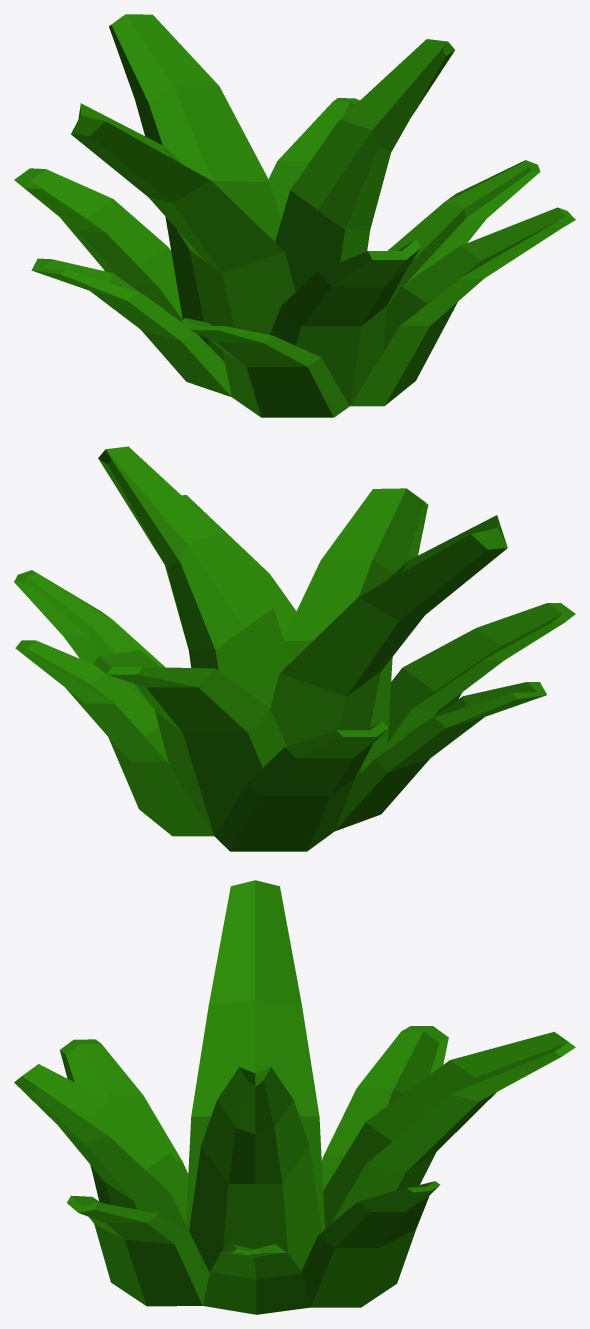
File: Plant2.fbx
3 renders of one model, top to bottom at view 1: azimuth 30°, elevation 25°; view 2: azimuth 150°, elevation 25°; view 3: azimuth 270°, elevation 25°, orthographic. The views are drawn at different scales.
Visible parts, largest first — view 1: Cylinder.001; view 2: Cylinder.001; view 3: Cylinder.001.
Part boxes in pixels (left/top/right/bottom): Cylinder.001: left=14, top=14, right=575, bottom=417; Cylinder.001: left=14, top=446, right=575, bottom=851; Cylinder.001: left=14, top=880, right=575, bottom=1314.
Bounding box in the file's own units: 79.94 × 44.76 × 78.38.
